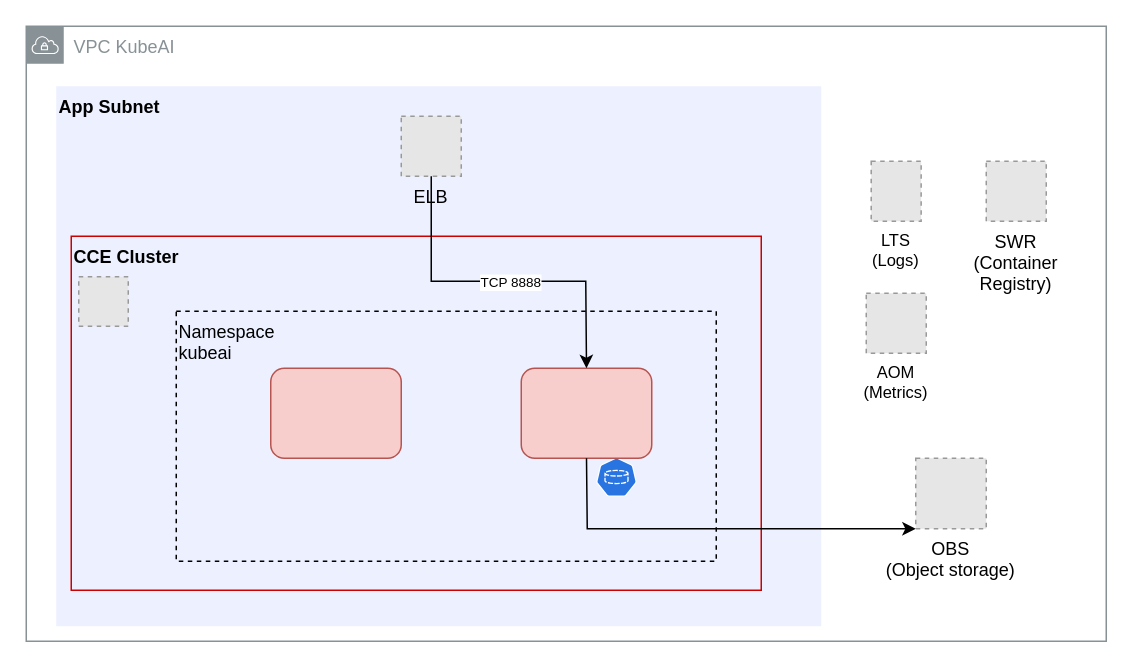
The diagram is 1133 pixels wide and 668 high, and some of its shapes have lost their labels. Grey dashed boxes stand in for pictures. Here are the shapes that lost their labels. From the top down, the centre of each, then its label:
At point 335,412: "KubeAI".
At point 586,412: "open-webui statefulset".
At point 616,476: "PVC".
